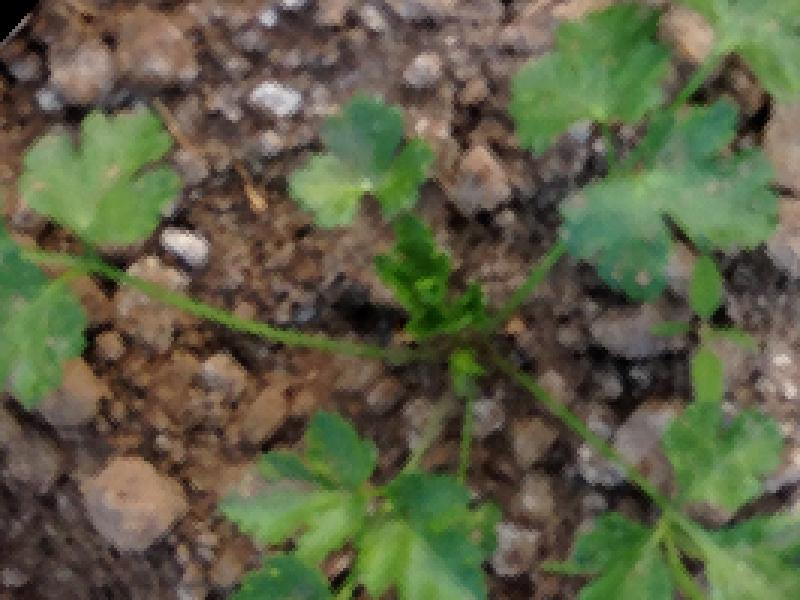radish: (10, 0, 800, 539)
